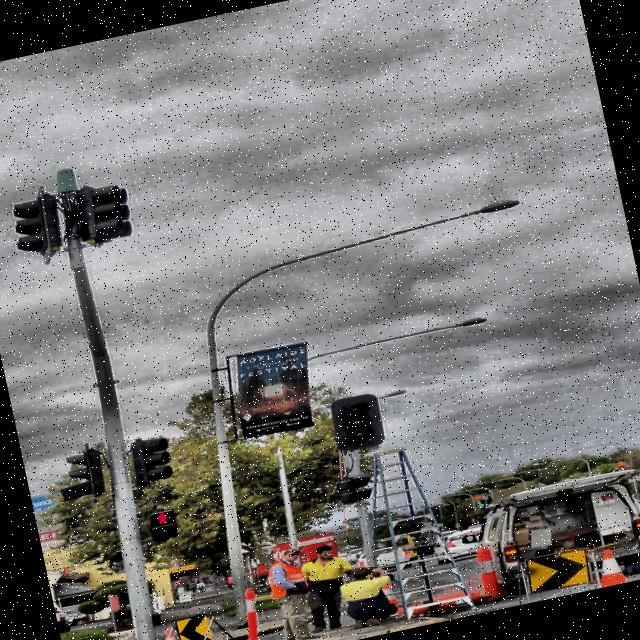red_light: (153, 510, 170, 526)
